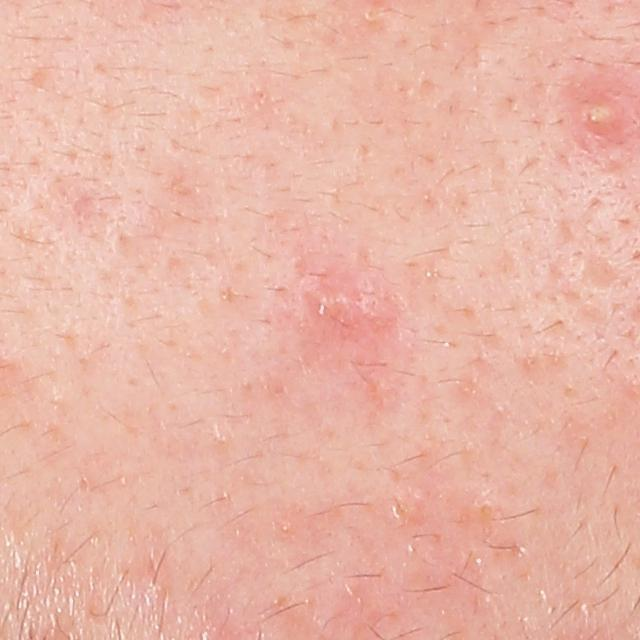atrophic_scar: (577, 250, 630, 292)
comedo: (471, 497, 500, 524)
pustule: (305, 281, 377, 331), (574, 84, 636, 135)
